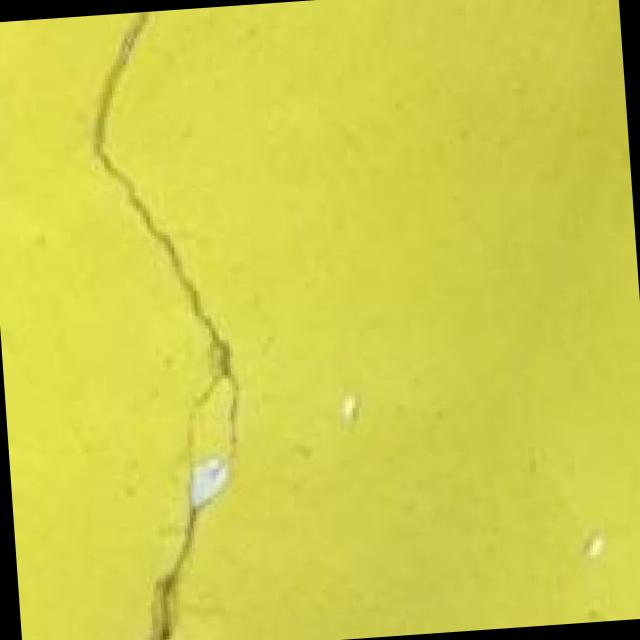crack: (71, 6, 266, 640)
